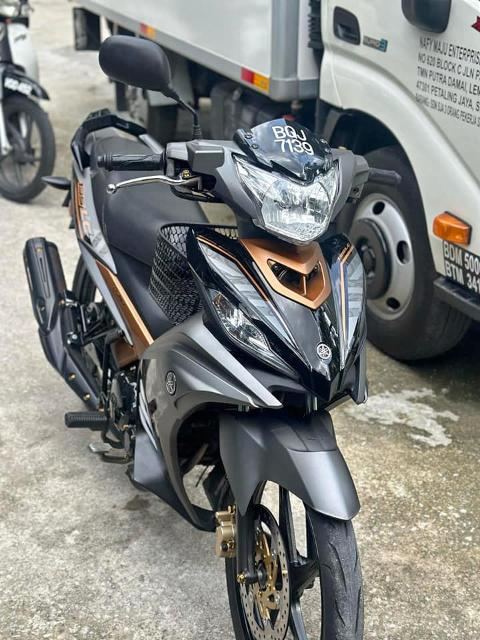License_Plate: (263, 124, 324, 162)
motorcycle: (22, 34, 402, 640)
